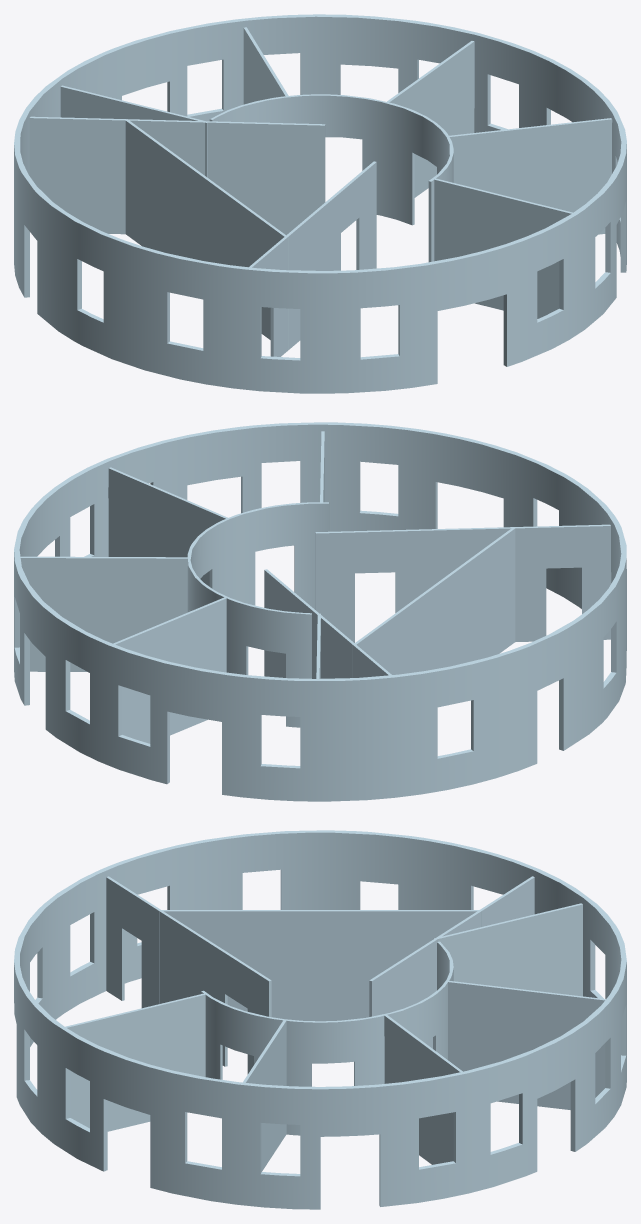
The model's file is floor_walls_lod1.glb.
3 renders of one model, top to bottom at view 1: azimuth 30°, elevation 25°; view 2: azimuth 150°, elevation 25°; view 3: azimuth 270°, elevation 25°, orthographic.
Visible parts, largest first — view 1: Facade 0, Radial demise wall (×5), Core tangent wall, Bedroom-bath wall, Corridor wall 0, Living-bedroom separator (×3); view 2: Facade 0, Radial demise wall (×3), Living-bedroom separator (×5), Corridor wall 0, Bedroom-bath wall, Core tangent wall; view 3: Facade 0, Radial demise wall (×5), Bedroom-bath wall, Corridor wall 0, Living-bedroom separator (×5), Core tangent wall.
Part boxes in pixels (x1,y1,x2,y2): Facade 0: (14, 14, 626, 393); Radial demise wall (×5): (60, 27, 612, 318); Core tangent wall: (29, 116, 325, 235); Bedroom-bath wall: (125, 119, 288, 350); Corridor wall 0: (209, 94, 453, 262); Living-bedroom separator (×3): (270, 161, 376, 356); Facade 0: (14, 422, 626, 801); Radial demise wall (×3): (20, 467, 229, 743); Living-bedroom separator (×5): (315, 524, 611, 642); Corridor wall 0: (187, 502, 329, 727); Bedroom-bath wall: (352, 528, 515, 677); Core tangent wall: (264, 569, 391, 678); Facade 0: (14, 830, 626, 1209); Radial demise wall (×5): (65, 903, 605, 1171); Bedroom-bath wall: (159, 910, 481, 1021); Corridor wall 0: (201, 941, 453, 1135); Living-bedroom separator (×5): (106, 876, 271, 1074); Core tangent wall: (369, 876, 534, 1048).
Bounding box in the file's own units: 15.14 × 3.28 × 15.14.
